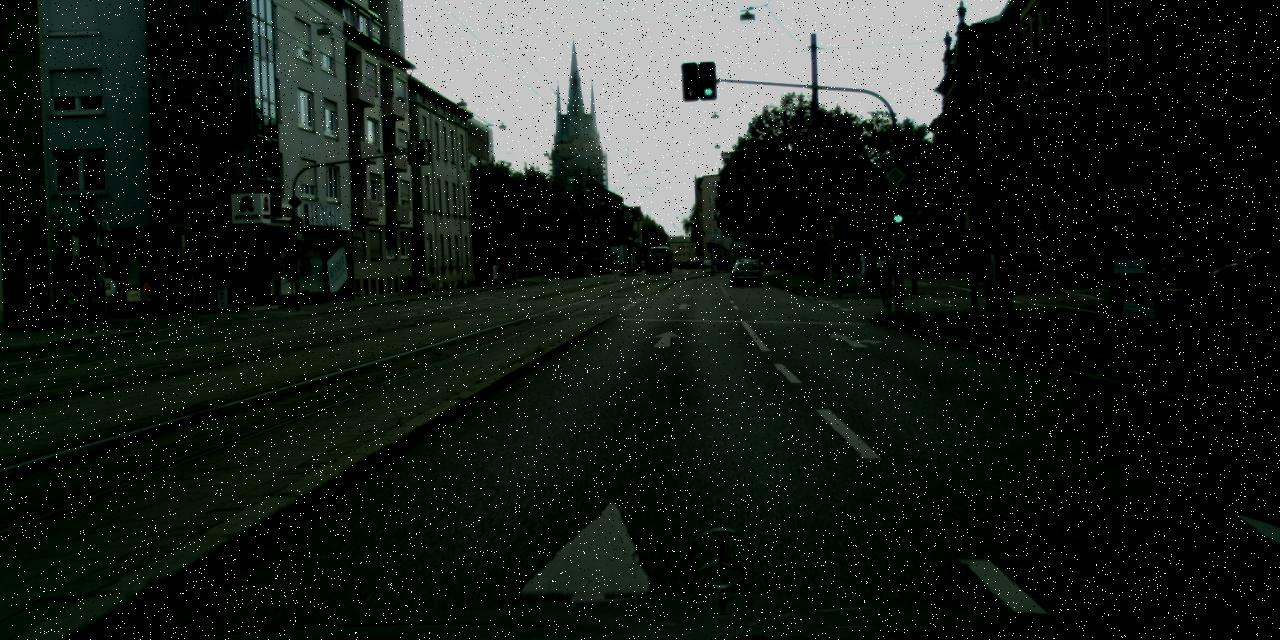ped: (871, 246, 898, 313), (846, 248, 858, 278), (831, 252, 839, 270), (648, 260, 653, 273)
